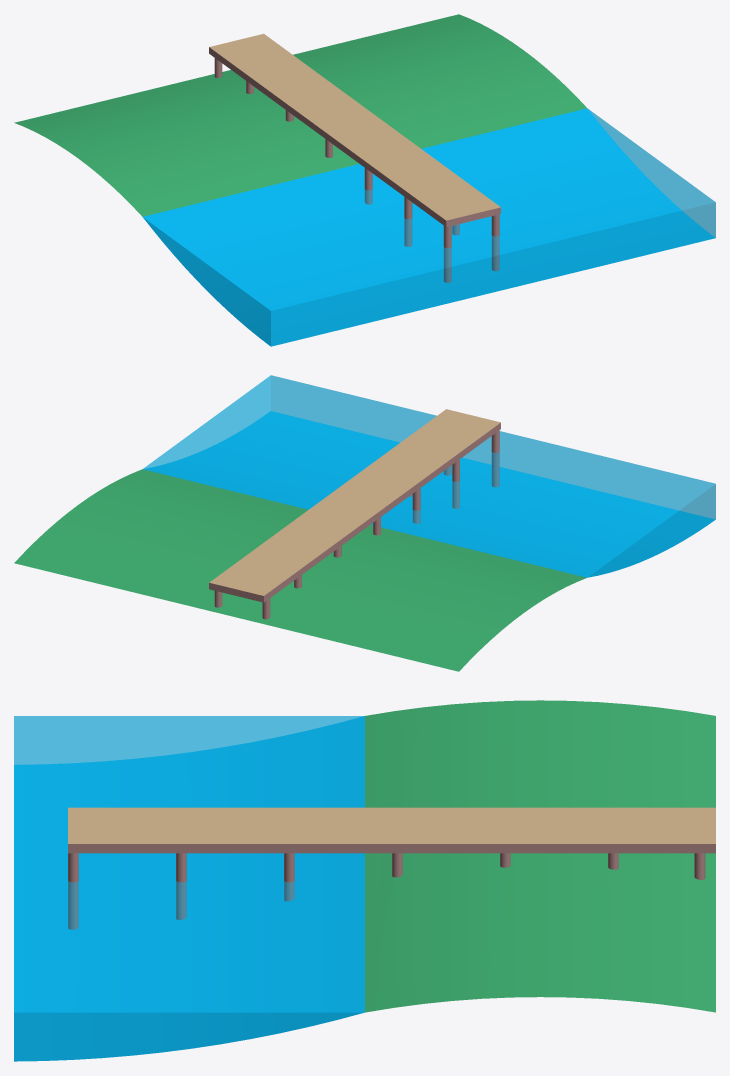
Rendered from 25_dock.dae.
3 renders of one model, top to bottom at view 1: azimuth 30°, elevation 25°; view 2: azimuth 150°, elevation 25°; view 3: azimuth 270°, elevation 25°, orthographic. The views are drawn at different scales.
Visible parts, largest first — view 1: SketchUp (×5); view 2: SketchUp (×6); view 3: SketchUp (×7).
Boxes of the visible parts, x1,y1,x2,y2 form: SketchUp (×5): (14,14,715,346); SketchUp (×6): (14,375,715,671); SketchUp (×7): (14,700,715,1061).
Size of the model in its own units: 65 by 65 by 8.93.
